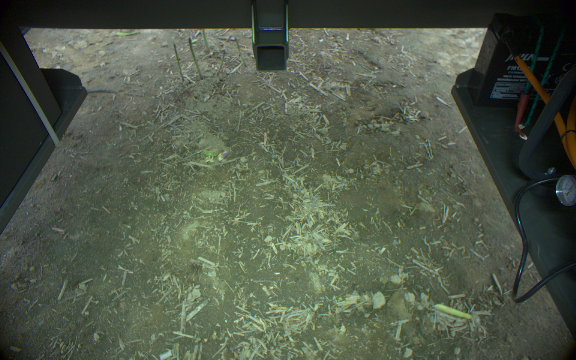aspa: (434, 301, 473, 324), (187, 38, 203, 80), (173, 42, 184, 83), (198, 28, 212, 59), (233, 37, 245, 67), (214, 49, 226, 78)
